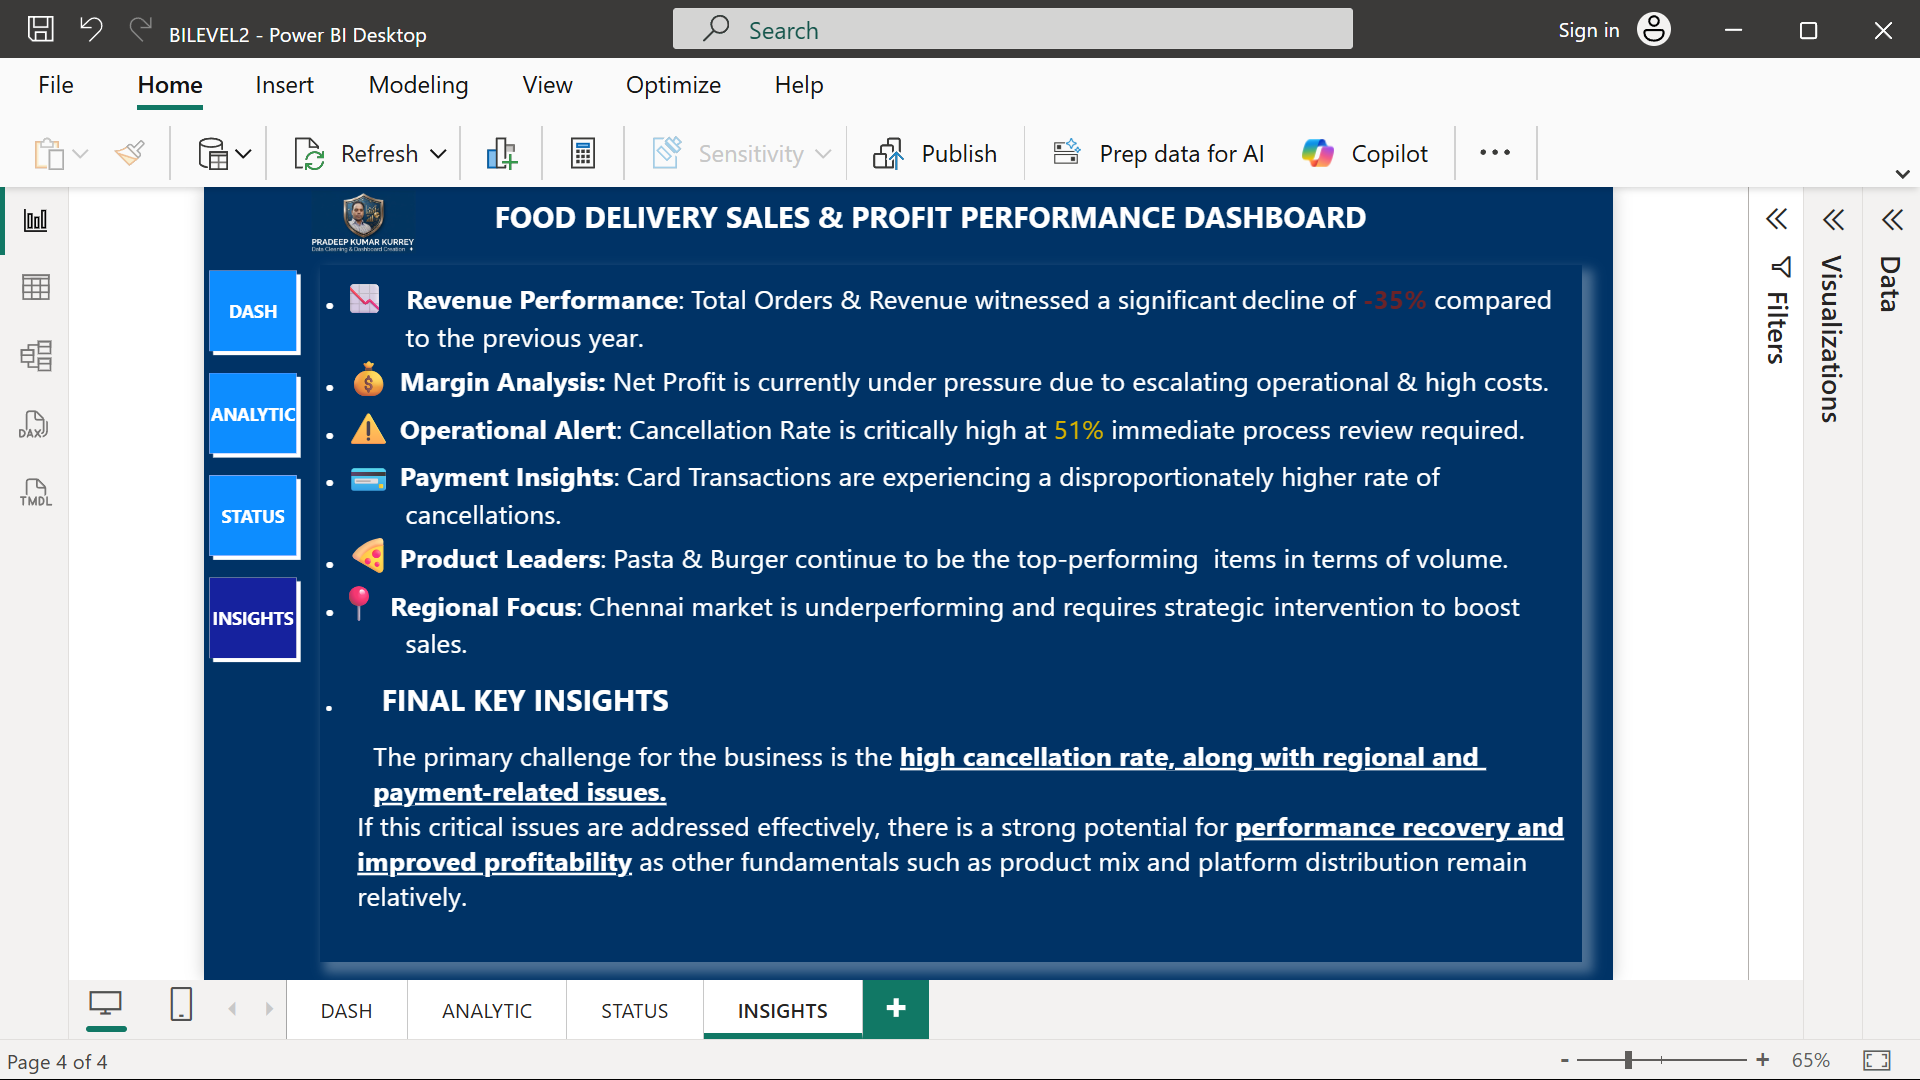

The dashboard page shown, as its layout file describes it:
{"tool":"powerbi","page":{"name":"INSIGHTS","canvas":[1280,720],"ordinal":3},"visuals":[{"type":"pageNavigator","box":[5.8,71.2,80.8,363.5],"z":0},{"type":"textbox","box":[11,3.7,1258.6,62.6],"z":1000},{"type":"image","box":[53.4,3.7,182.2,57],"z":2000},{"type":"textbox","box":[104.9,71.8,1146.3,633],"z":6000}]}

Visuals, with their boxes on the page's 1280x720 design canvas (x1, y1, x2, y2). These are canvas units, not pixel positions in the 1920x1080 screenshot, which may show the page scaled, cropped or inside an application window:
pageNavigator: rect(6, 71, 87, 435)
textbox: rect(11, 4, 1270, 66)
image: rect(53, 4, 236, 61)
textbox: rect(105, 72, 1251, 705)
